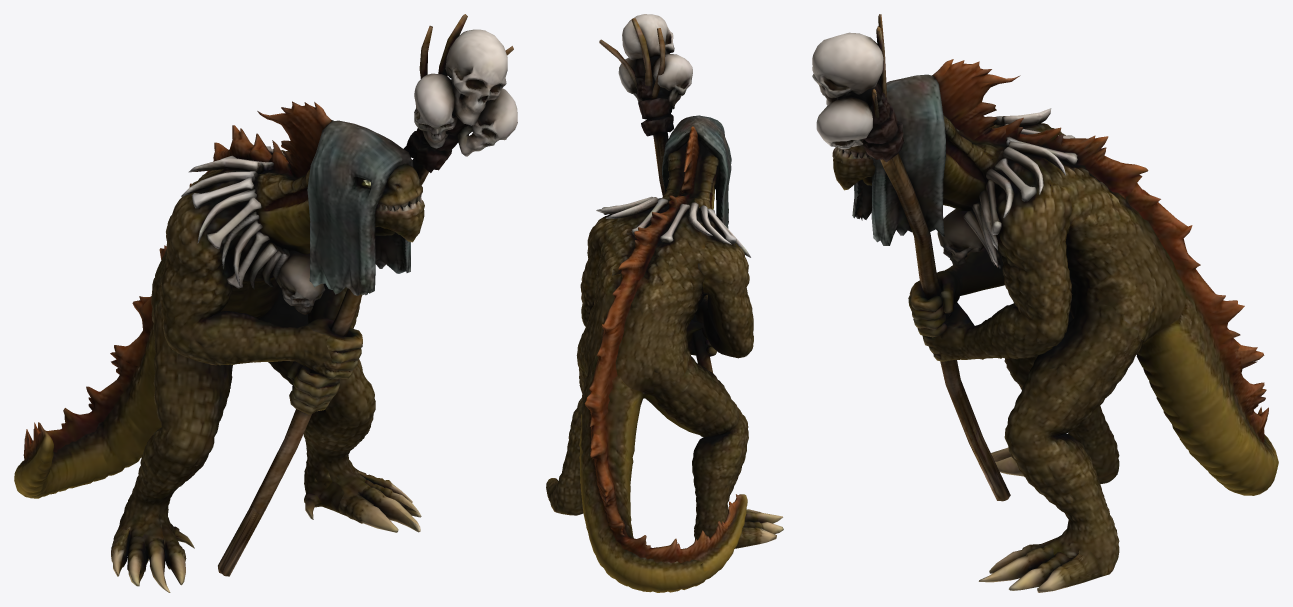
File: MZ4250 - Lizardfolk Shaman_alt2.glb
3 views of the same model, side by side, from view 1: azimuth 30°, elevation 25°; view 2: azimuth 150°, elevation 25°; view 3: azimuth 270°, elevation 25° (orthographic). The views are drawn at different scales.
Visible parts, largest first — view 1: Lizardfolk Shaman.001; view 2: Lizardfolk Shaman.001; view 3: Lizardfolk Shaman.001.
Part boxes in pixels (<box>): Lizardfolk Shaman.001: <box>14,14,517,592</box>; Lizardfolk Shaman.001: <box>546,14,783,592</box>; Lizardfolk Shaman.001: <box>812,14,1278,592</box>.
Size of the model in its own units: 25.68 by 41.35 by 31.28.
Materials: 1 (1 with a texture image).
